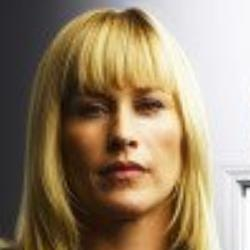face: (19, 4, 216, 239)
